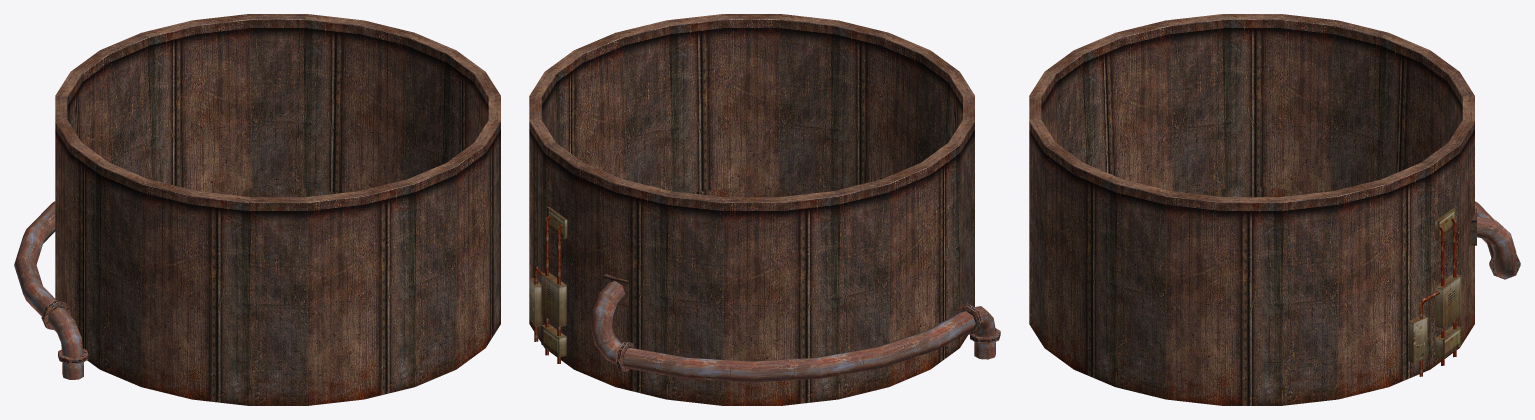
The model's file is stirtank.fbx.
3 views of the same model, side by side, from view 1: azimuth 30°, elevation 25°; view 2: azimuth 150°, elevation 25°; view 3: azimuth 270°, elevation 25° (orthographic).
Visible parts, largest first — view 1: mesh_0, mesh_1; view 2: mesh_0, mesh_1, mesh_5, mesh_6, mesh_10; view 3: mesh_0, mesh_1, mesh_5, mesh_10, mesh_6.
Part boxes in pixels (bbox=[...]): mesh_0: bbox=[55, 14, 500, 405]; mesh_1: bbox=[14, 201, 83, 379]; mesh_0: bbox=[529, 14, 974, 405]; mesh_1: bbox=[590, 281, 995, 382]; mesh_5: bbox=[541, 272, 566, 326]; mesh_6: bbox=[541, 324, 566, 357]; mesh_10: bbox=[529, 278, 541, 326]; mesh_0: bbox=[1029, 14, 1474, 405]; mesh_1: bbox=[1475, 201, 1516, 278]; mesh_5: bbox=[1435, 274, 1460, 328]; mesh_10: bbox=[1408, 315, 1427, 363]; mesh_6: bbox=[1435, 326, 1460, 358].
Size of the model in its own units: 875 by 400 by 875.
1 material, 1 textured.
